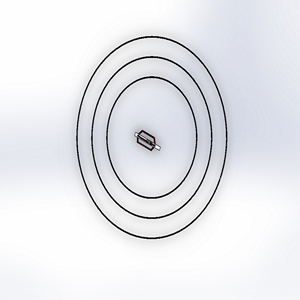circle: (70, 32, 232, 243)
submarine: (128, 118, 166, 160)
